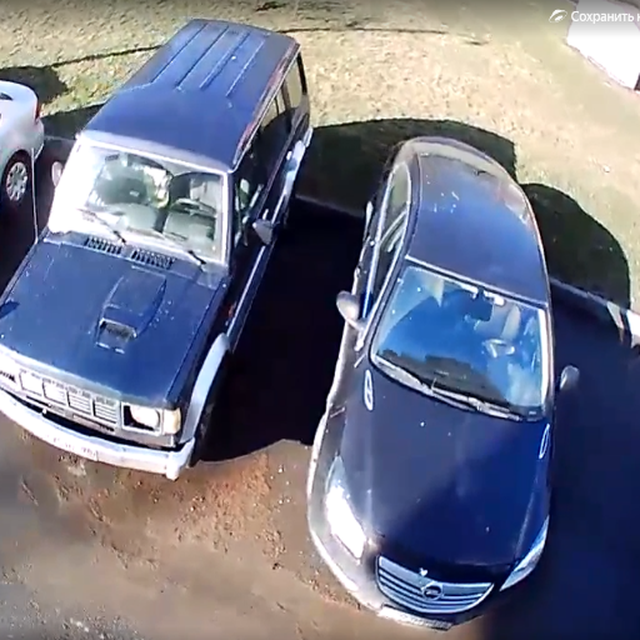car: (1, 16, 309, 477), (306, 135, 552, 631)
